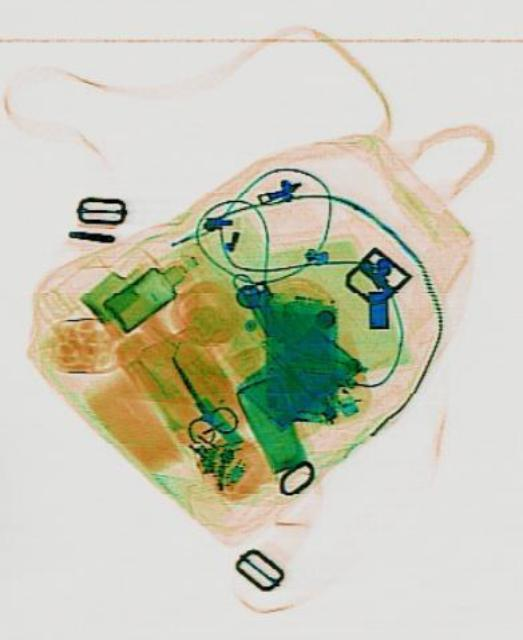Scissors: (146, 340, 237, 452)
